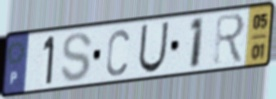1: (188, 15, 204, 71), (41, 34, 56, 86)
C: (105, 27, 131, 78)
R: (212, 12, 247, 67)
S: (59, 31, 94, 85)
U: (137, 20, 171, 75)
